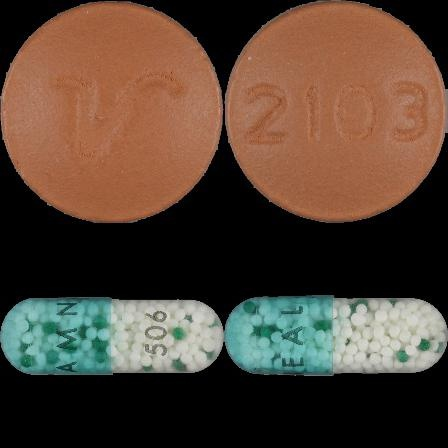66336-673: (0, 0, 224, 224)
